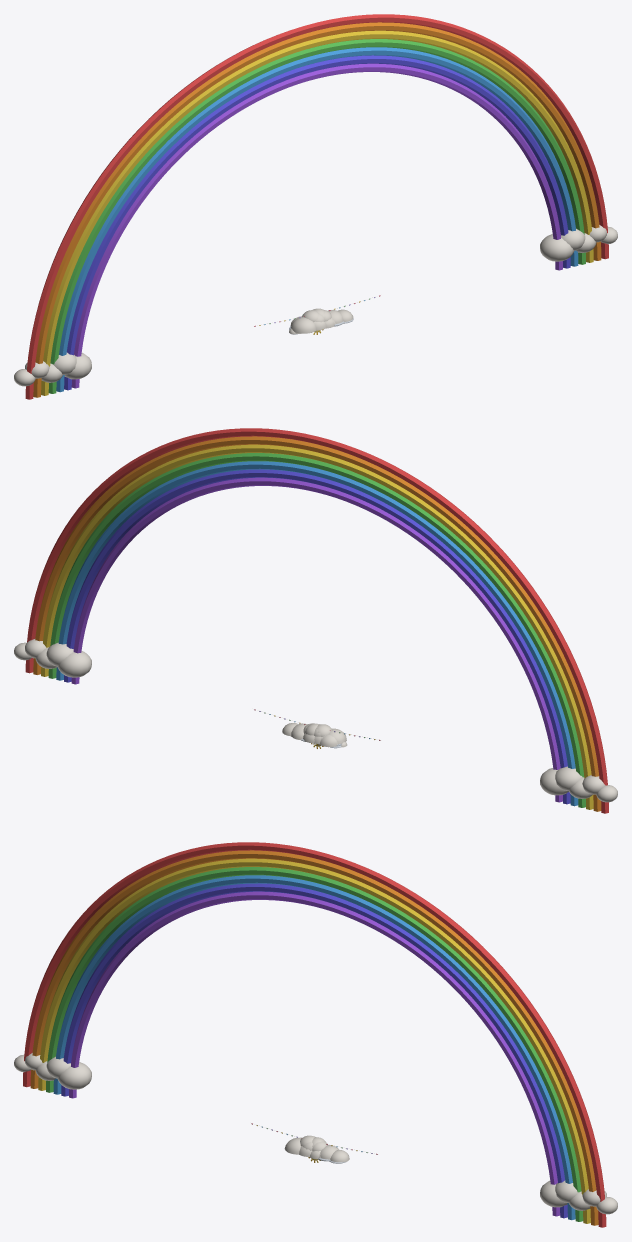
File: sky.glb
3 renders of one model, top to bottom at view 1: azimuth 30°, elevation 25°; view 2: azimuth 150°, elevation 25°; view 3: azimuth 330°, elevation 25°, orthographic.
Parts seen in each view (by area): view 1: rainbow, cloud_0; view 2: rainbow, cloud_2; view 3: rainbow.
Boxes of the visible parts, bbox=[...] form: rainbow: bbox=[14, 14, 617, 399]; cloud_0: bbox=[290, 310, 334, 333]; rainbow: bbox=[14, 428, 617, 813]; cloud_2: bbox=[282, 723, 347, 747]; rainbow: bbox=[14, 842, 617, 1227].
Bounding box in the file's own units: 125 × 62.29 × 6.67.
